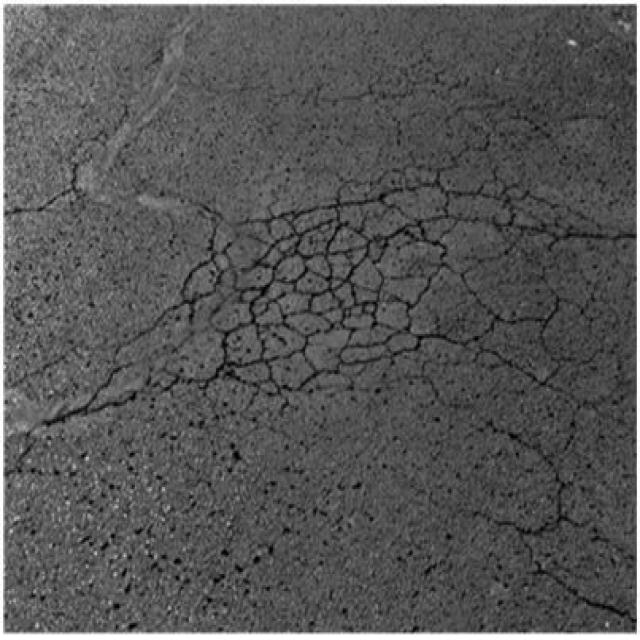Drain Hole: (159, 186, 605, 490)
